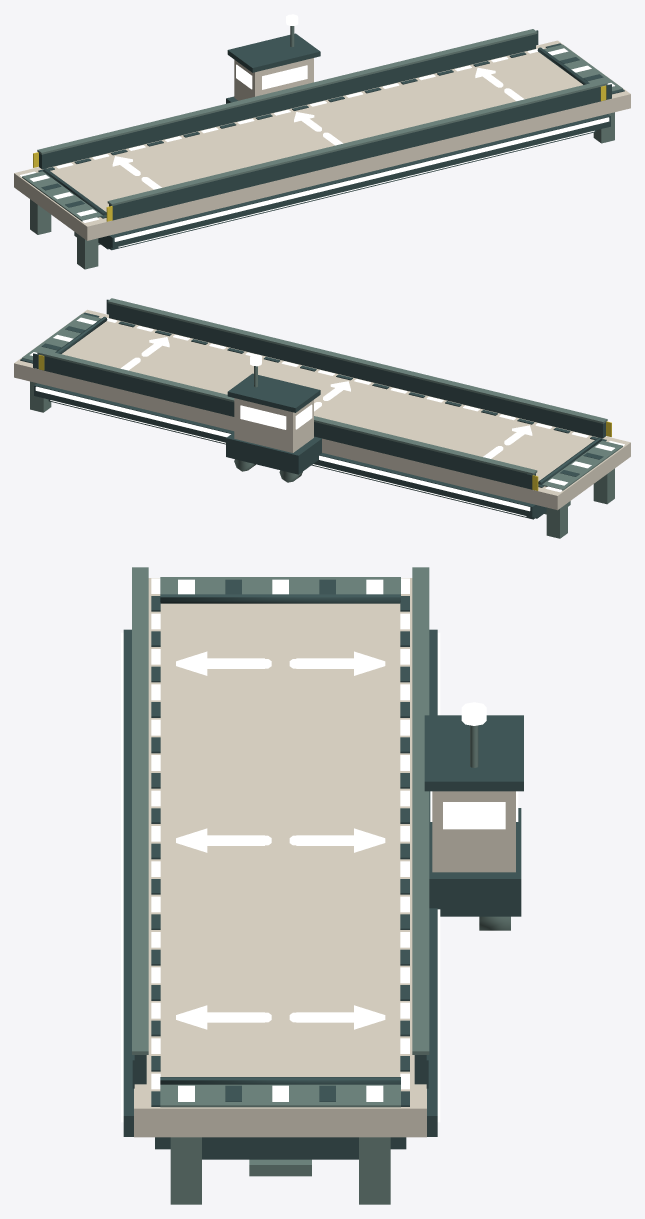
Rendered from Deck_Ferry_v4_12_lab.glb.
3 renders of one model, top to bottom at view 1: azimuth 30°, elevation 25°; view 2: azimuth 150°, elevation 25°; view 3: azimuth 270°, elevation 25°, orthographic. The views are drawn at different scales.
Parts seen in each view (by area): view 1: Deck_Ferry_v4_12; view 2: Deck_Ferry_v4_12; view 3: Deck_Ferry_v4_12.
Boxes of the visible parts, x1,y1,x2,y2 form: Deck_Ferry_v4_12: [14, 14, 630, 269]; Deck_Ferry_v4_12: [14, 298, 630, 538]; Deck_Ferry_v4_12: [121, 567, 523, 1204].
Bounding box in the file's own units: 12 × 2.7 × 3.85.
